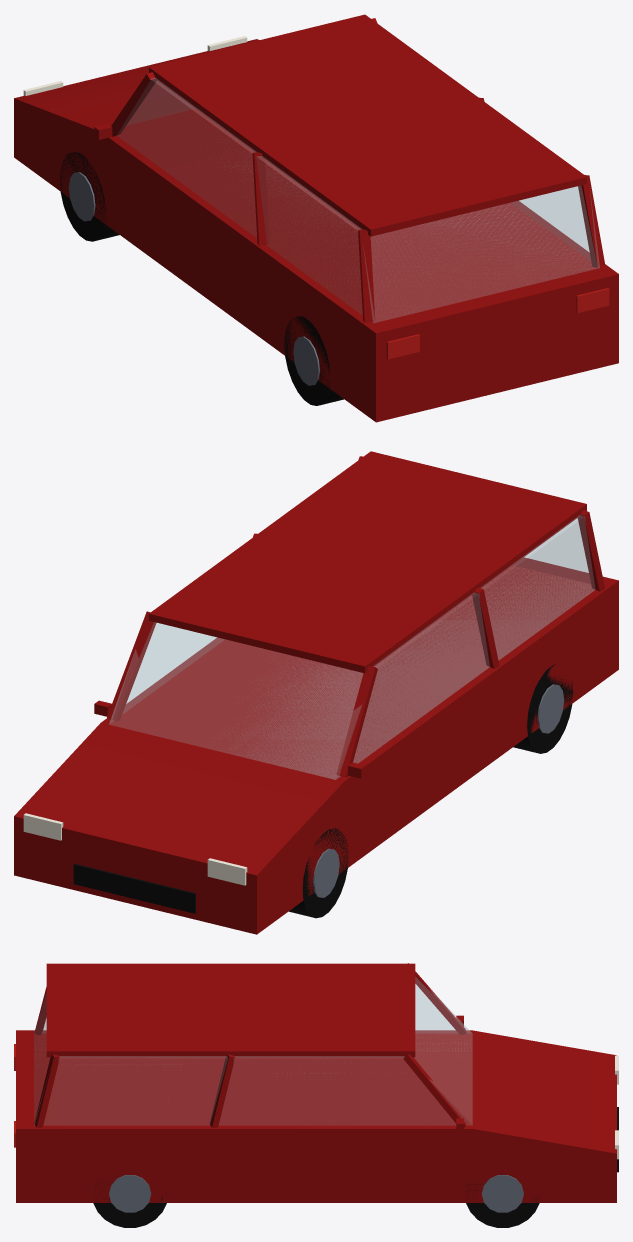
Rendered from vehicle.car.estate_red.glb.
3 renders of one model, top to bottom at view 1: azimuth 30°, elevation 25°; view 2: azimuth 150°, elevation 25°; view 3: azimuth 270°, elevation 25°, orthographic. The views are drawn at different scales.
Parts seen in each view (by area): view 1: main__car_red, main__glass, main__rubber, main__steel_painted, main__hazard_red, main__light_emitter; view 2: main__car_red, main__glass, main__rubber, main__plastic_black, main__steel_painted, main__light_emitter; view 3: main__car_red, main__glass, main__steel_painted, main__rubber.
Boxes of the visible parts, x1,y1,x2,y2 form: main__car_red: [14, 14, 618, 422]; main__glass: [117, 78, 599, 322]; main__rubber: [59, 152, 343, 405]; main__steel_painted: [68, 172, 319, 385]; main__hazard_red: [386, 288, 609, 359]; main__light_emitter: [23, 36, 247, 95]; main__car_red: [14, 451, 618, 934]; main__glass: [109, 515, 595, 779]; main__rubber: [289, 664, 573, 918]; main__plastic_black: [73, 864, 195, 913]; main__steel_painted: [313, 684, 564, 897]; main__light_emitter: [23, 813, 247, 885]; main__car_red: [16, 963, 616, 1202]; main__glass: [34, 977, 472, 1125]; main__steel_painted: [109, 1175, 523, 1212]; main__rubber: [93, 1182, 539, 1227].
Size of the model in its own units: 2 by 1.48 by 4.73.
